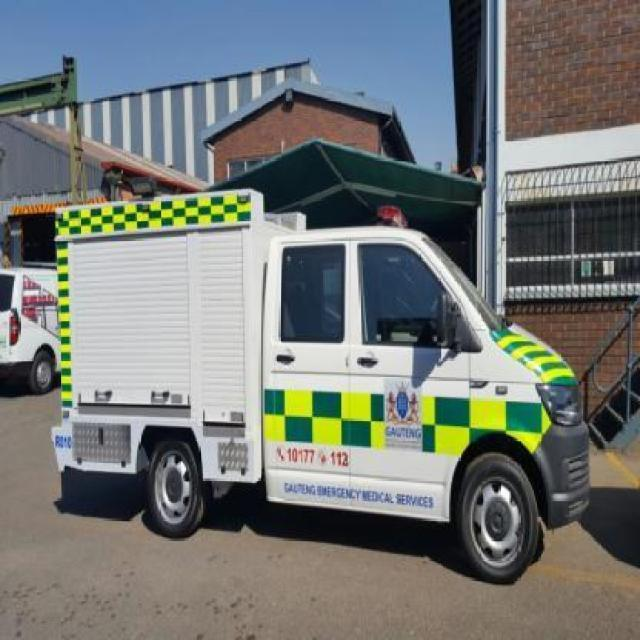emergency: (49, 187, 592, 586)
